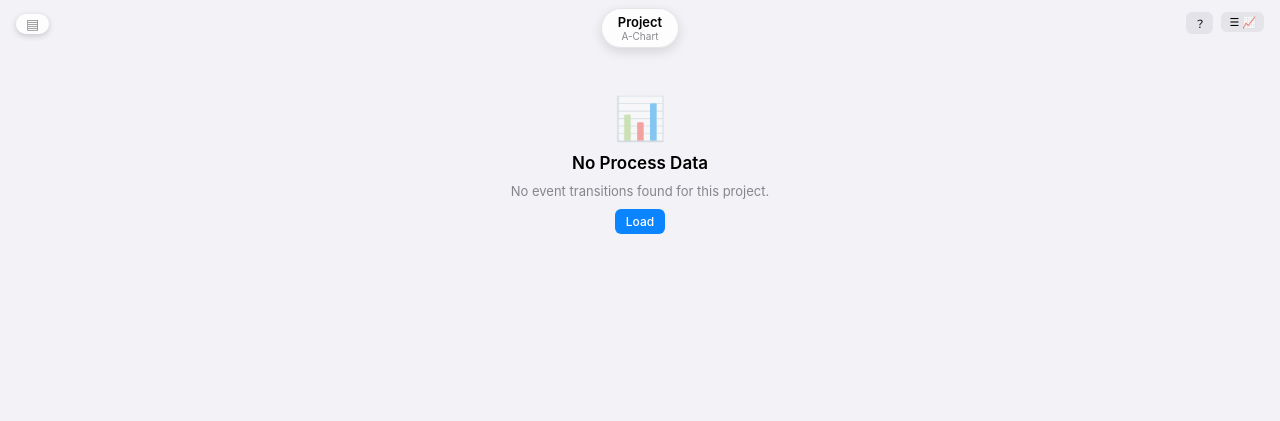
Test: DetailPane view-mode menu › shows the power-only views to a power user
The image size is (1280, 421).
Click the button titled "Switch view".
click(1243, 22)  # box [1222,12,1264,32]
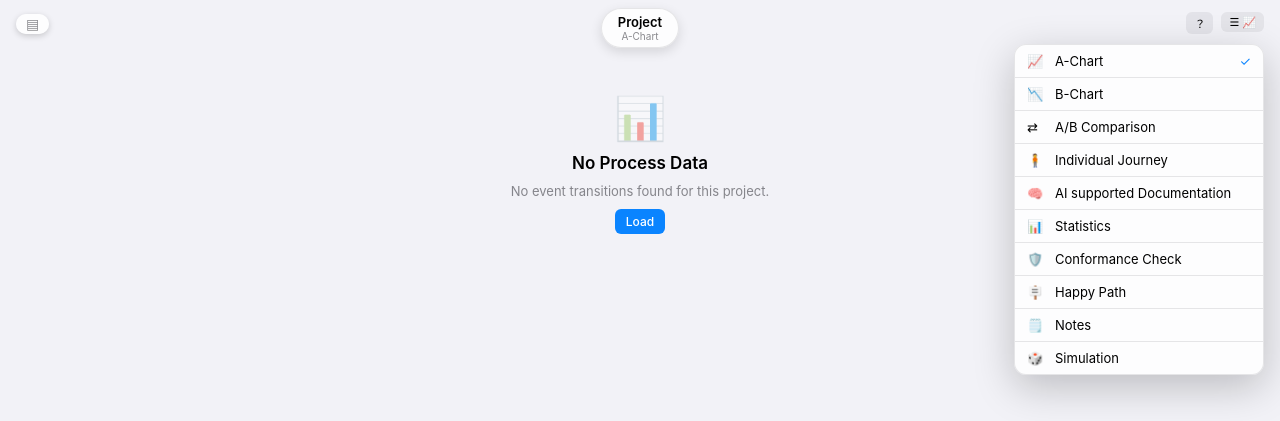
Expected: the button "🛡️ Conformance Check" is shown, [1015,242,1263,275]
Expected: the button "🪧 Happy Path" is shown, [1015,275,1263,308]
Expected: the button "🎲 Simulation" is shown, [1015,341,1263,374]
